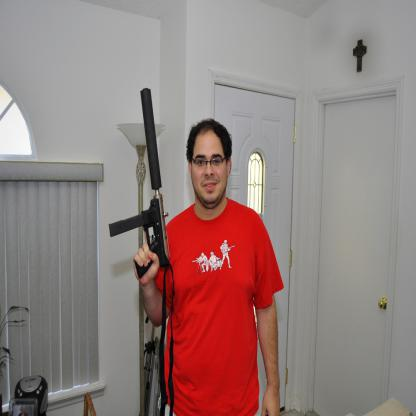door: (312, 100, 398, 416), (221, 85, 290, 411)
hinged: (288, 249, 292, 267), (292, 126, 296, 142), (285, 369, 288, 384)
knob: (378, 298, 384, 312)
